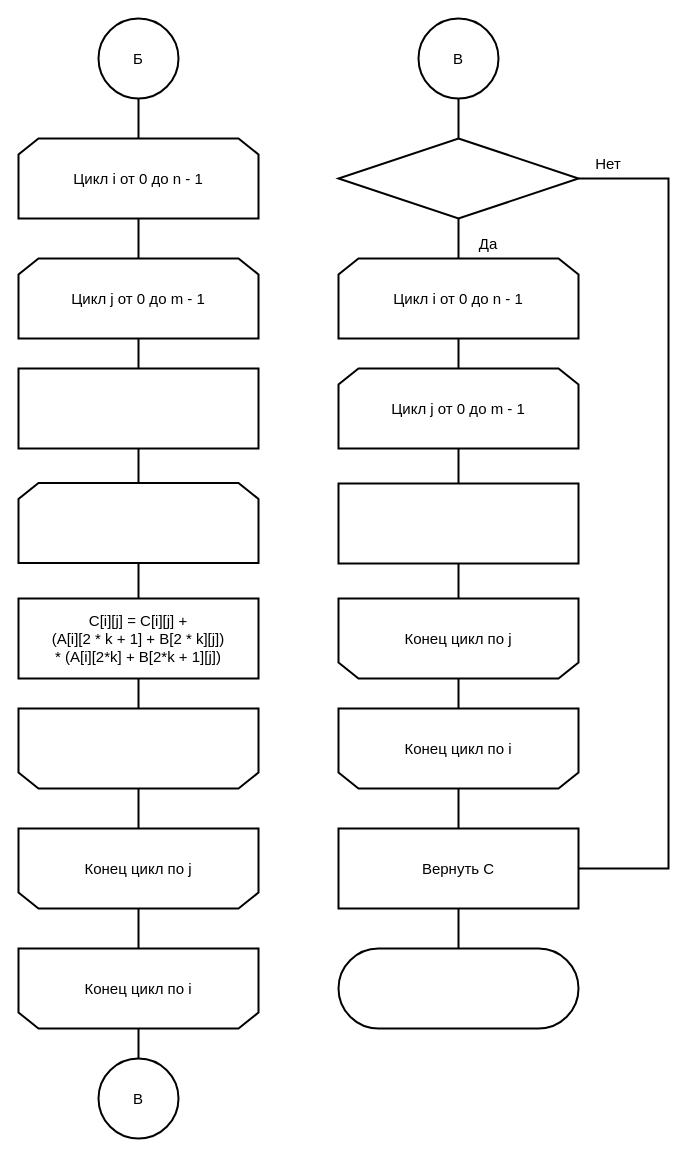
Image size: 687x1156. Some labels were removed from this diagram. Here are the shapes that lost their labels. From the top down, the box of each, then its label:
(337, 137, 579, 219): p % 2 != 0
(17, 367, 259, 449): C[i][j] = -row_factors[i] - column_factors[j]
(17, 482, 259, 564): Цикл k от 0 до p//2 - 1
(337, 482, 579, 564): C[i][j] = C[i][j] + A[i][p - 1] * B[p -1][j]
(17, 707, 259, 789): Конец цикл по p
(337, 947, 579, 1029): Конец
